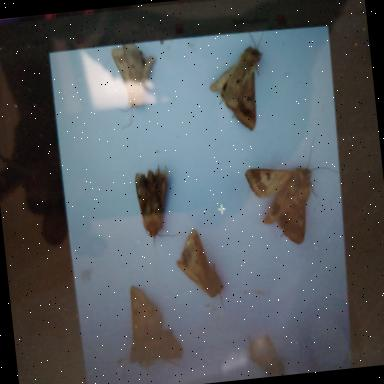abw: (243, 140, 345, 250), (107, 282, 187, 378), (204, 31, 275, 138), (173, 226, 228, 316), (110, 40, 162, 132), (132, 160, 182, 246)
